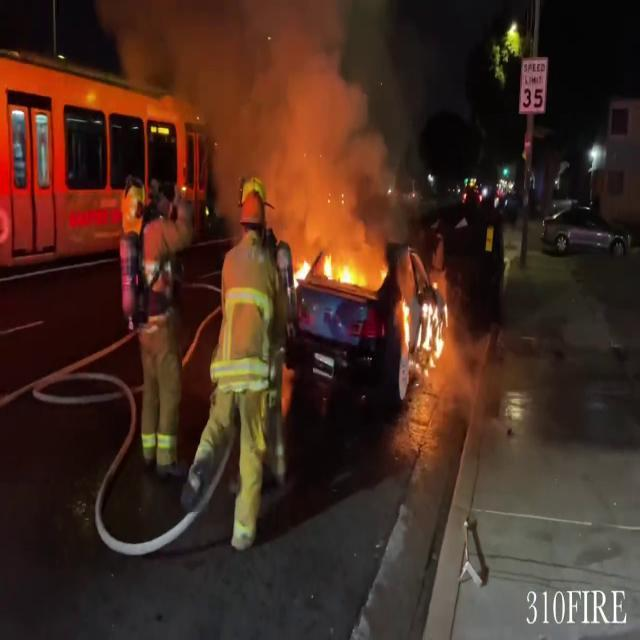Fire: (316, 248, 378, 296)
Smoke: (160, 0, 403, 258)
